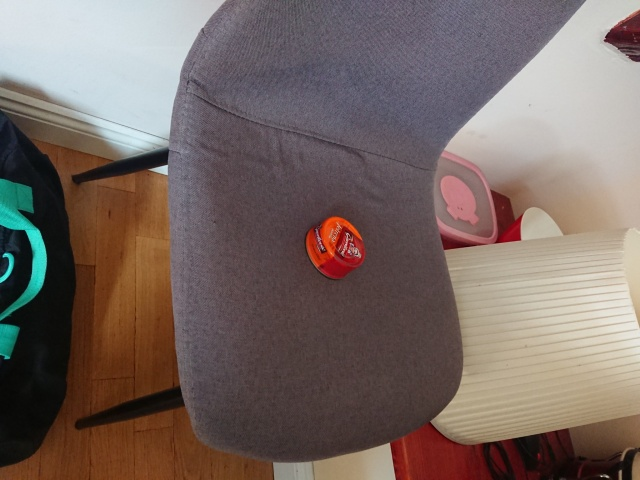Gavrilovic Pork Liver Pate 100g: (303, 213, 366, 282)
